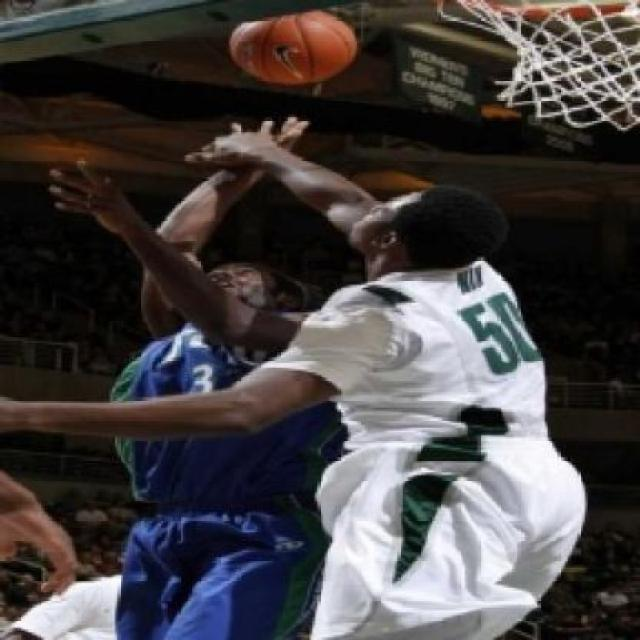basketball: (216, 4, 376, 90)
